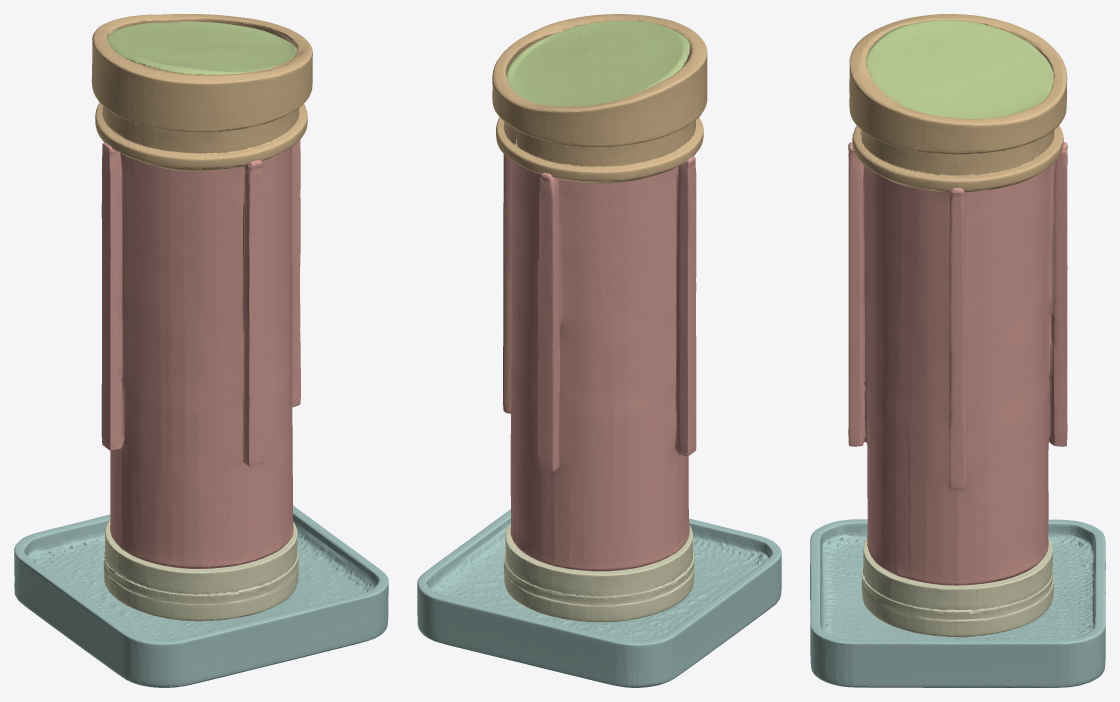
File: markmate_omnipart_draco.glb
3 views of the same model, side by side, from view 1: azimuth 30°, elevation 25°; view 2: azimuth 150°, elevation 25°; view 3: azimuth 270°, elevation 25° (orthographic). The views are drawn at different scales.
Parts seen in each view (by area): view 1: geometry_0; view 2: geometry_0; view 3: geometry_0.
Part boxes in pixels (x1=…): geometry_0: x1=14, y1=14, x2=388, y2=687; geometry_0: x1=417, y1=14, x2=781, y2=687; geometry_0: x1=810, y1=14, x2=1105, y2=687.
Bounding box in the file's own units: 0.4645 × 0.9973 × 0.4638.
